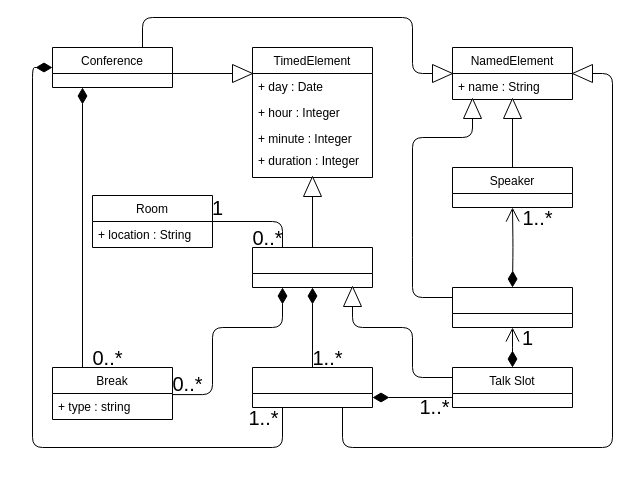
The diagram is 631 pixels wide and 481 high, and some of its shapes have lost their labels. The centre of each missing label's shape, as x and y in pixels:
Talk: point 512,307
Time Slot: point 312,267
Track: point 312,387
